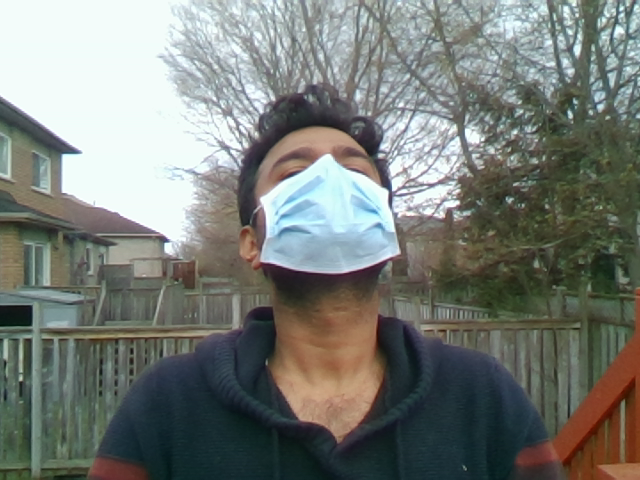Mask: (243, 154, 412, 278)
